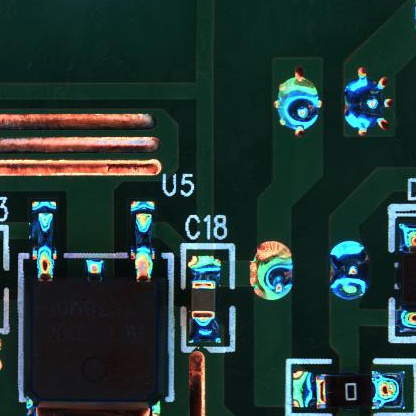spot: (342, 63, 395, 140), (273, 66, 324, 137), (249, 239, 293, 300), (329, 239, 371, 302)
